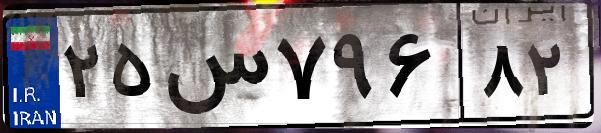2: (57, 26, 110, 100), (525, 38, 570, 115)
5: (110, 28, 158, 98)
6: (385, 28, 445, 110)
7: (270, 28, 330, 110)
8: (475, 38, 525, 113)
9: (330, 28, 385, 110)
س: (158, 20, 270, 120)
